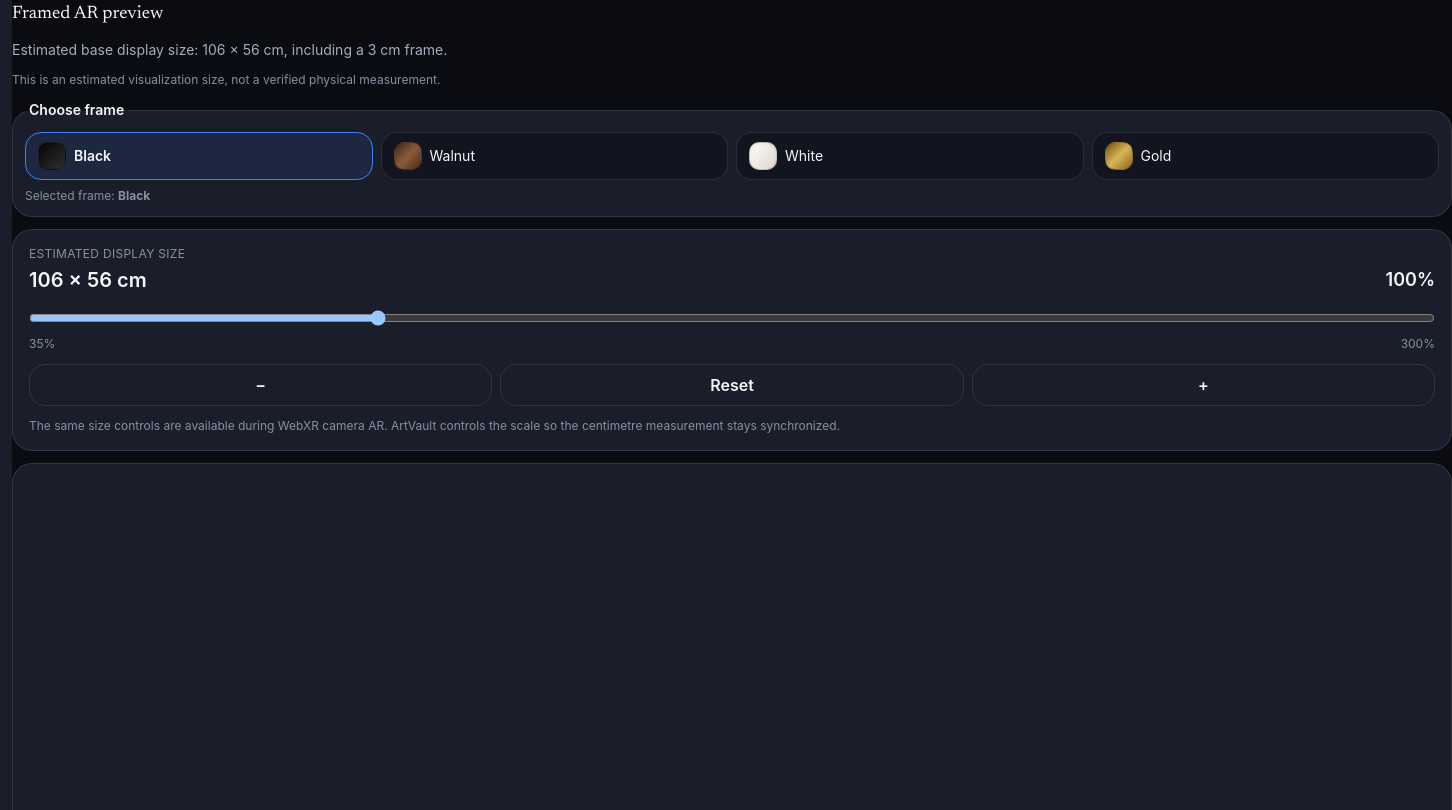
Test: real AR viewer wrapper › switches the actual GLB when another frame is selected
The width and height of the screenshot is (1452, 810).
Click the button "Walnut".
click(452, 156)  # box [380,132,728,180]
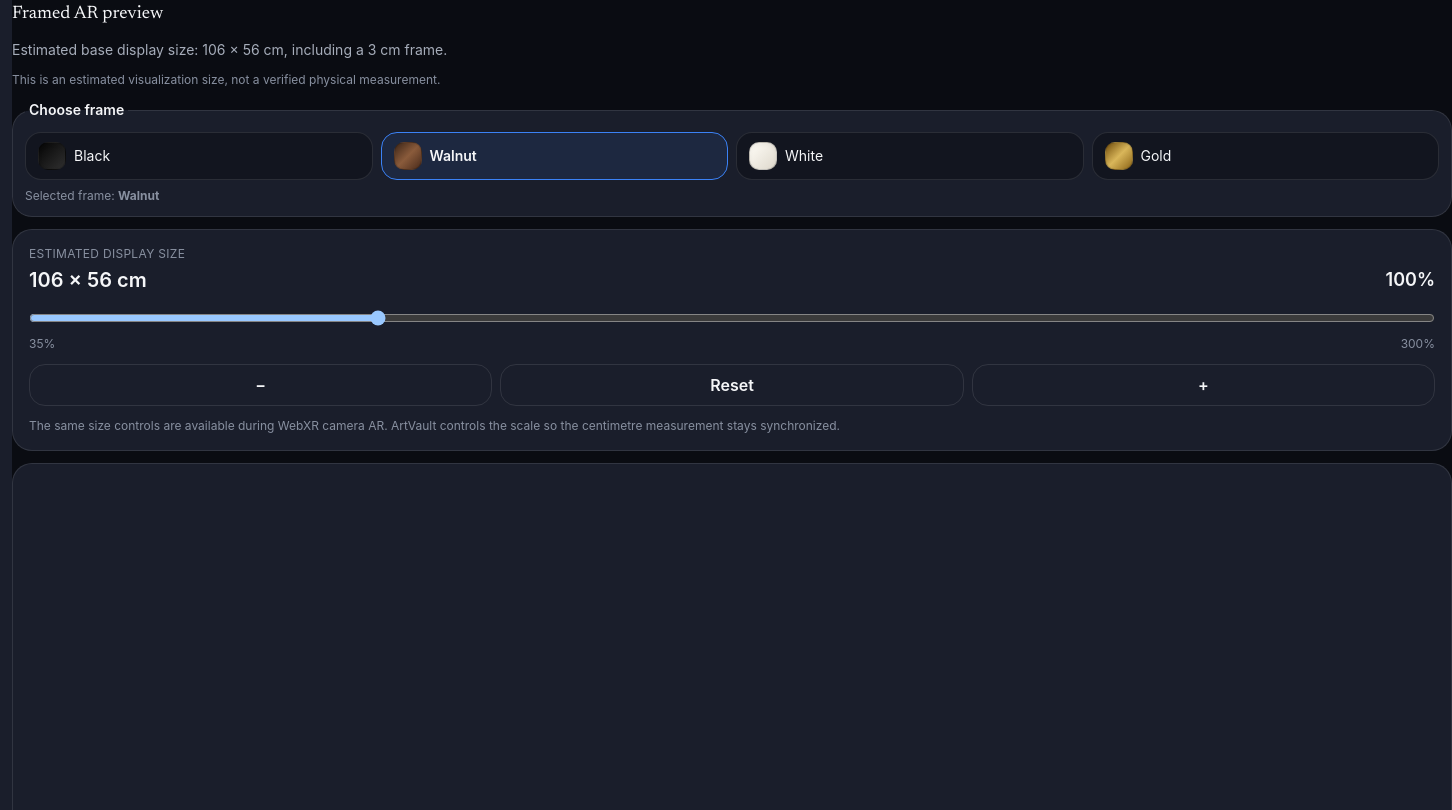
Now the text "Selected frame: Walnut" is shown, box [25,188,159,203]
